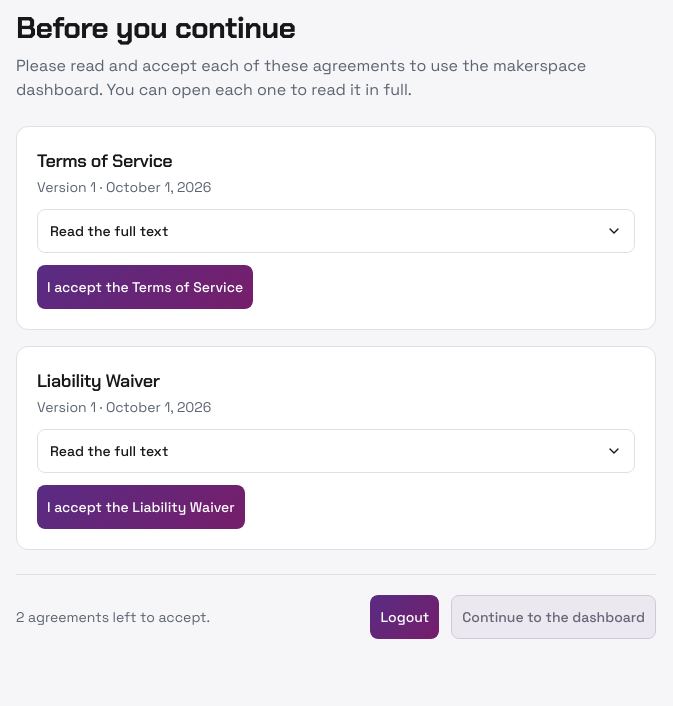
Scenario: AgreementsGate › shows a plain message when accepting fails, and keeps the button
Click the button "I accept the Terms of Service" at [145, 287], box [37,265,253,309]
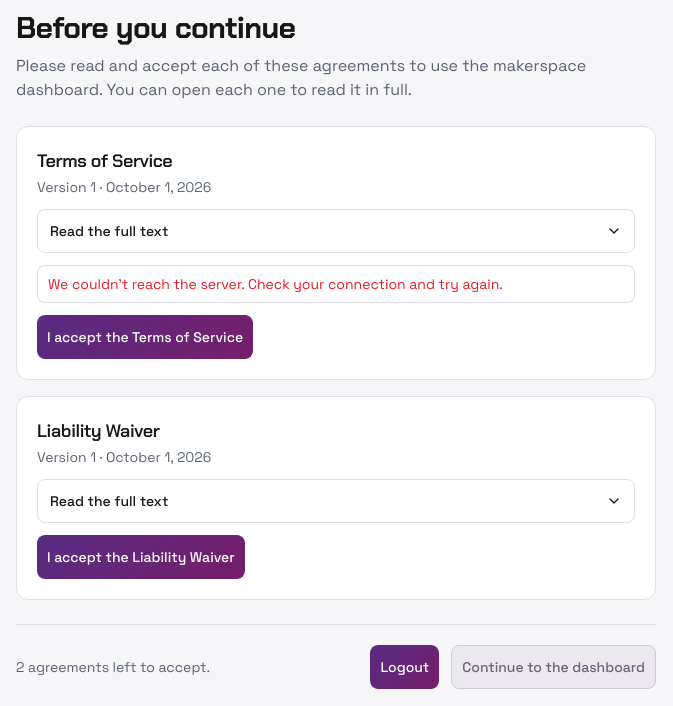
Expected: the button "I accept the Terms of Service" is enabled, [37,315,253,359]
Result: the text "couldn't reach the server" is shown at [48,275,503,293]
